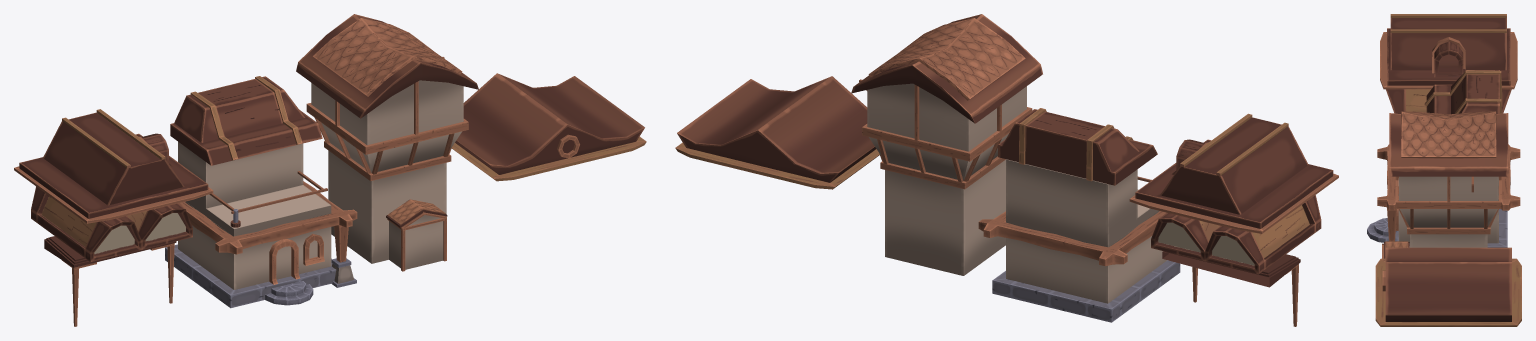
File: pueblo01_002.fbx
The picture shows the model from 3 angles, left to right: view 1: azimuth 30°, elevation 25°; view 2: azimuth 150°, elevation 25°; view 3: azimuth 270°, elevation 25°; orthographic projection. The views are drawn at different scales.
Parts seen in each view (by area): view 1: Techo_M3_UVs, Techo_M2_UVs, Techo_M4_UVs.001, Techo_M4_UVs, Base_CasaM2_UVs, Base_CasaM1_UVs, Torre_Sup_UVs, Torre_Inf_UVs, Techo_M1_UVs, Canasta_Madera_UVs, Bordes_Madera_UVs, Entrada_UVs (+9 smaller); view 2: Techo_M3_UVs, Techo_M2_UVs, Techo_M4_UVs.001, Torre_Inf_UVs, Base_CasaM1_UVs, Base_CasaM2_UVs, Torre_Sup_UVs, Techo_M4_UVs, Techo_M1_UVs, Canasta_Madera_UVs, Bordes_Madera_UVs, TechoF_UVs; view 3: Techo_M3_UVs, Techo_M2_UVs, Techo_M4_UVs.001, Torre_Sup_UVs, Techo_M4_UVs, Canasta_Madera_UVs, Bordes_Madera_UVs, Torre_Inf_UVs, Techo_M1_UVs, Ventana_Techo_UVs, Base_CasaM1_UVs, Escalones_UVs (+2 smaller).
Boxes of the visible parts, box(x1,y1,x2,y2) form: Techo_M3_UVs: box(451, 73, 646, 181); Techo_M2_UVs: box(14, 109, 213, 223); Techo_M4_UVs.001: box(296, 14, 478, 118); Techo_M4_UVs: box(170, 76, 322, 165); Base_CasaM2_UVs: box(178, 142, 331, 236); Base_CasaM1_UVs: box(165, 201, 336, 308); Torre_Sup_UVs: box(311, 80, 463, 172); Torre_Inf_UVs: box(328, 150, 446, 263); Techo_M1_UVs: box(31, 186, 192, 262); Canasta_Madera_UVs: box(306, 81, 468, 181); Bordes_Madera_UVs: box(178, 181, 357, 254); Entrada_UVs: box(389, 215, 443, 269); Techo_M3_UVs: box(675, 76, 879, 189); Techo_M2_UVs: box(1129, 113, 1338, 233); Techo_M4_UVs.001: box(851, 14, 1042, 123); Torre_Inf_UVs: box(885, 159, 1005, 275); Base_CasaM1_UVs: box(992, 211, 1180, 322); Base_CasaM2_UVs: box(1006, 159, 1158, 247); Torre_Sup_UVs: box(867, 83, 1026, 180); Techo_M4_UVs: box(998, 108, 1157, 185); Techo_M1_UVs: box(1151, 195, 1321, 274); Canasta_Madera_UVs: box(862, 85, 1032, 189); Bordes_Madera_UVs: box(978, 211, 1166, 266); TechoF_UVs: box(1162, 251, 1300, 287); Techo_M3_UVs: box(1375, 247, 1521, 326); Techo_M2_UVs: box(1380, 14, 1517, 89); Techo_M4_UVs.001: box(1389, 111, 1508, 176); Torre_Sup_UVs: box(1399, 176, 1498, 227); Techo_M4_UVs: box(1424, 70, 1502, 114); Canasta_Madera_UVs: box(1395, 176, 1501, 234); Bordes_Madera_UVs: box(1377, 144, 1520, 210); Torre_Inf_UVs: box(1410, 234, 1487, 247); Techo_M1_UVs: box(1386, 89, 1511, 113); Ventana_Techo_UVs: box(1432, 37, 1465, 77); Base_CasaM1_UVs: box(1395, 209, 1507, 247); Escalones_UVs: box(1367, 218, 1388, 242).
Size of the model in its own units: 3201 by 1112 by 858.
